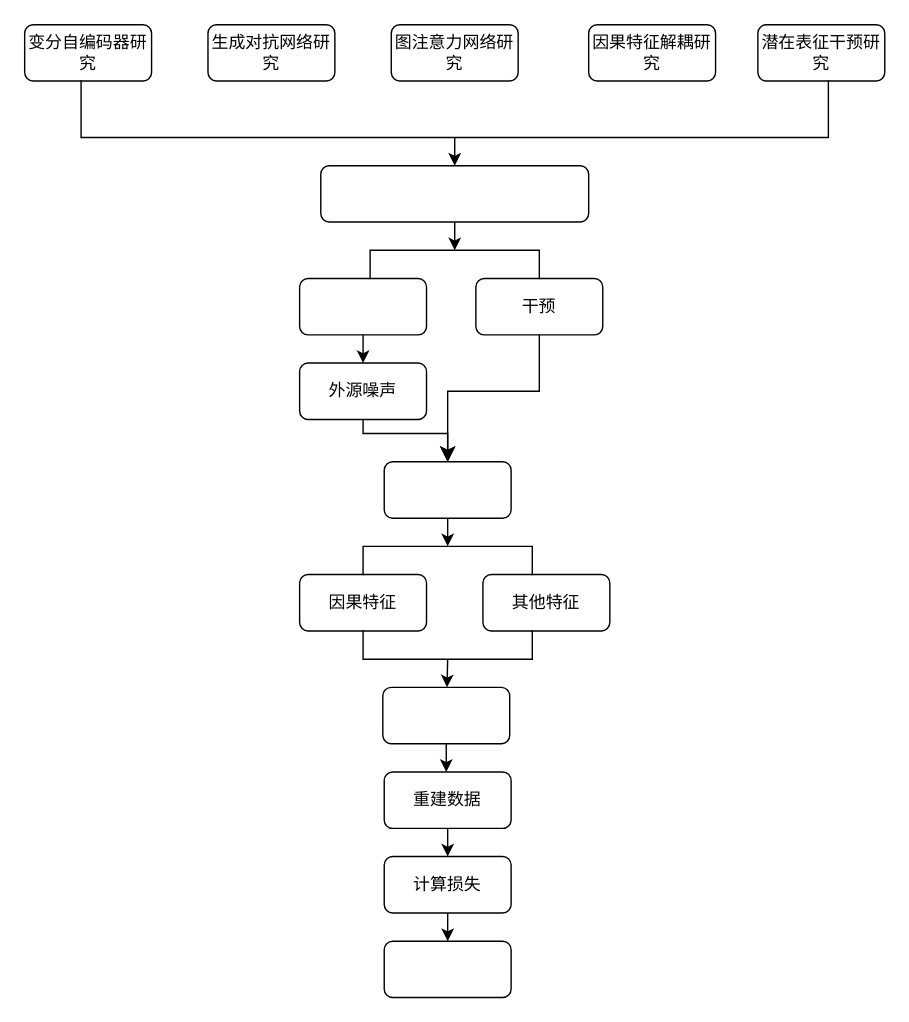
Some shapes in this 909 by 1022 pixel diagram are drawn without their labels. Here are the shapes that lost their labels. From the top down, the centre of each, then its label:
(454,193): 基于 GAT潜在表征干预的因果特征解耦模型研究
(362,306): 解耦
(447,489): 内生变量
(445,715): 潜在表征
(447,969): 评价并改进算法
